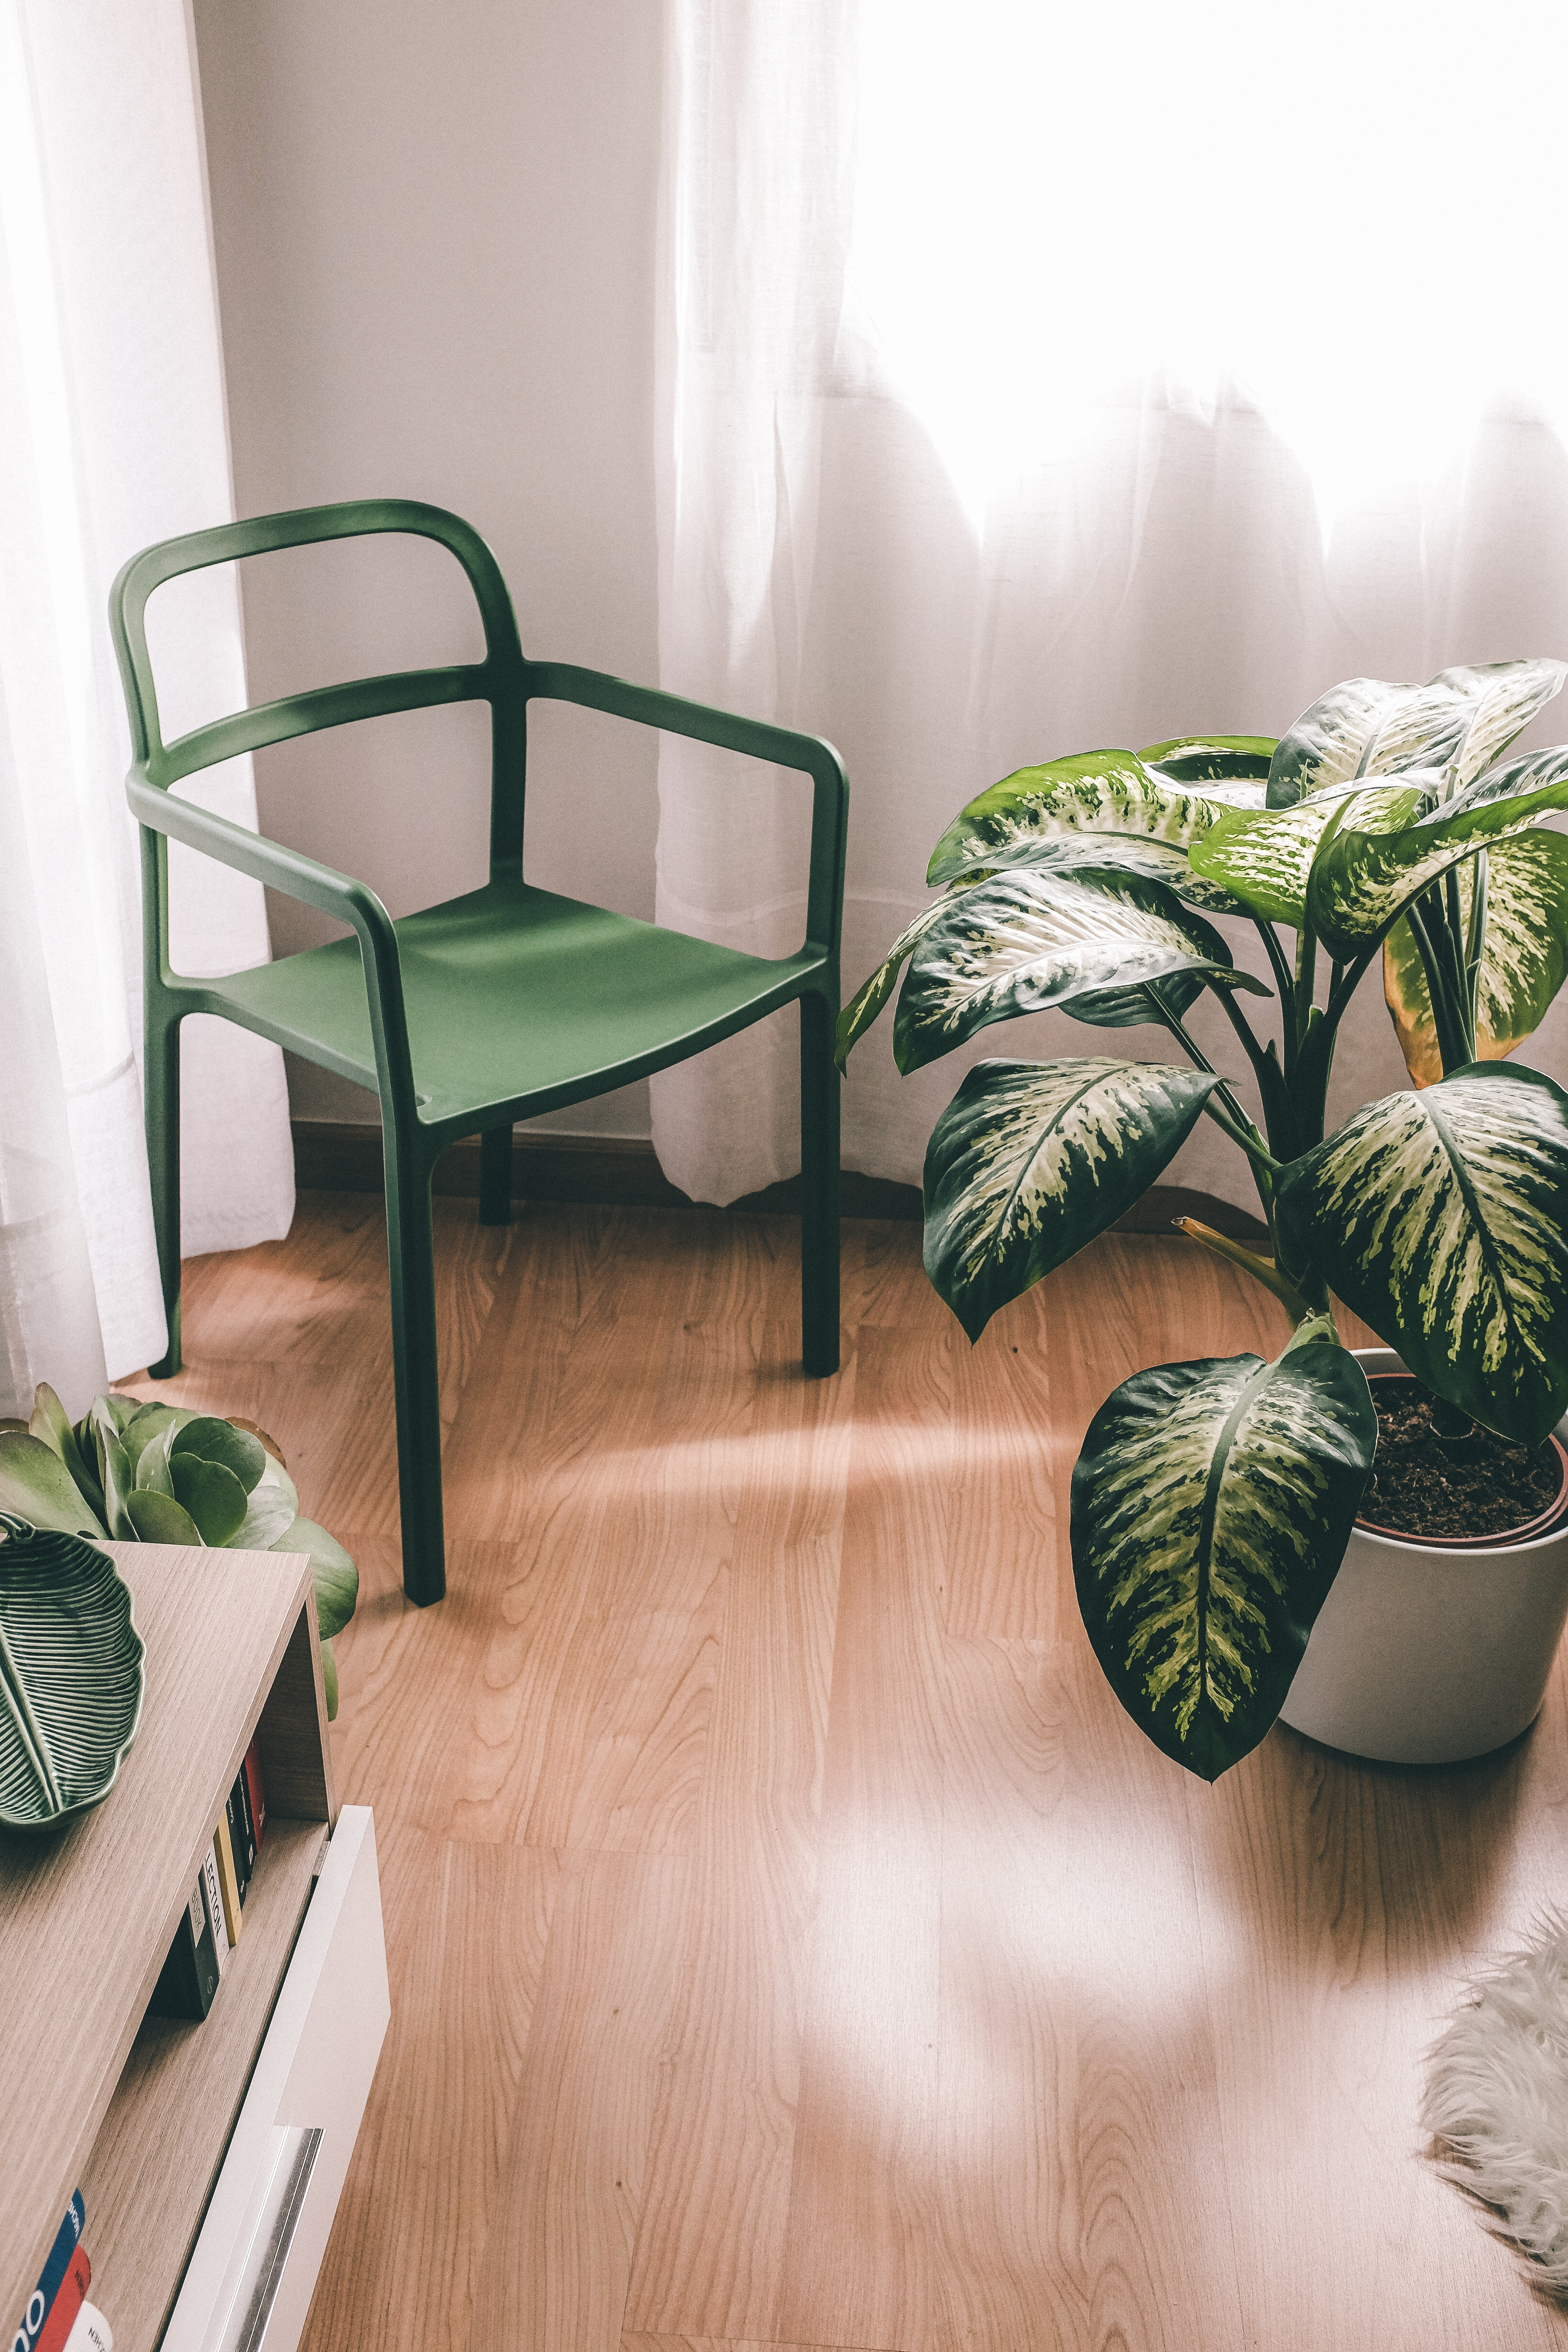Chair: (84, 490, 850, 1606)
Plant: (833, 625, 1568, 1790)
